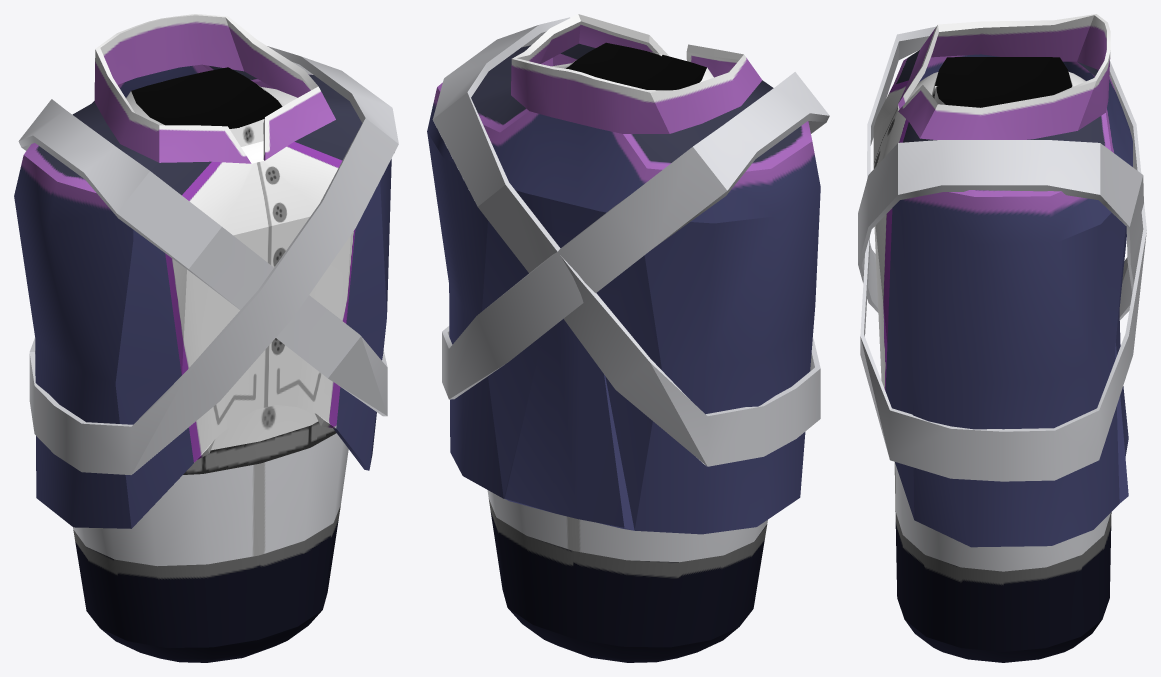
The model's file is riflemanBody.obj.
3 views of the same model, side by side, from view 1: azimuth 30°, elevation 25°; view 2: azimuth 150°, elevation 25°; view 3: azimuth 270°, elevation 25° (orthographic). The views are drawn at different scales.
Visible parts, largest first — view 1: riflemanTorsoUpload; view 2: riflemanTorsoUpload; view 3: riflemanTorsoUpload.
Part boxes in pixels (x1,y1,x2,y2): riflemanTorsoUpload: (14,14,398,662); riflemanTorsoUpload: (427,14,829,662); riflemanTorsoUpload: (858,14,1146,662).
Bounding box in the file's own units: 1.15 × 1.88 × 0.8187.
Materials: 1 (1 with a texture image).
